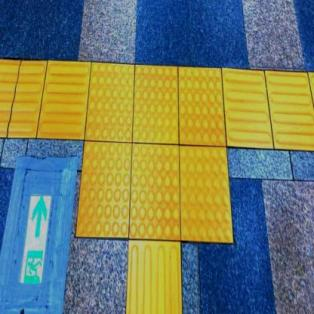Podoctatil: (54, 39, 250, 273), (229, 63, 313, 157), (0, 59, 84, 142), (127, 239, 182, 313)
